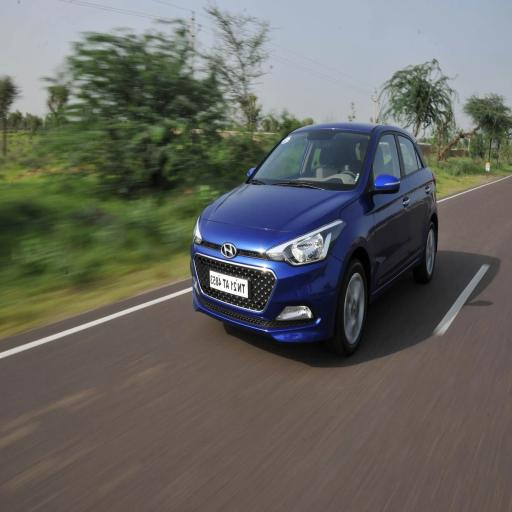License: (204, 273, 250, 296)
